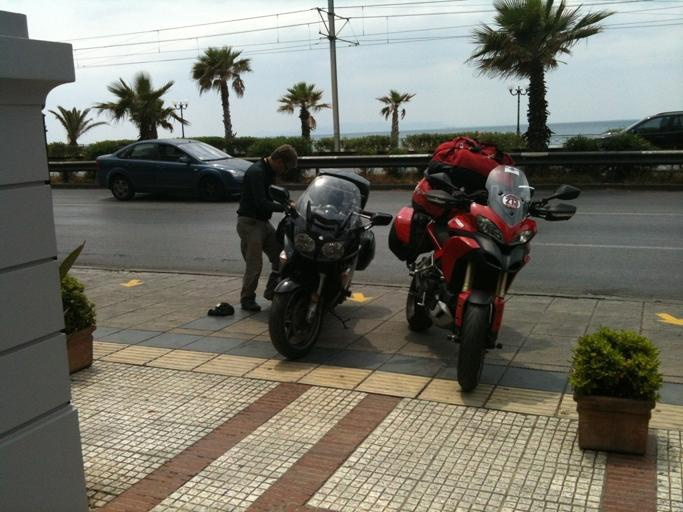non-vehicle: (384, 136, 580, 399), (262, 163, 394, 360)
